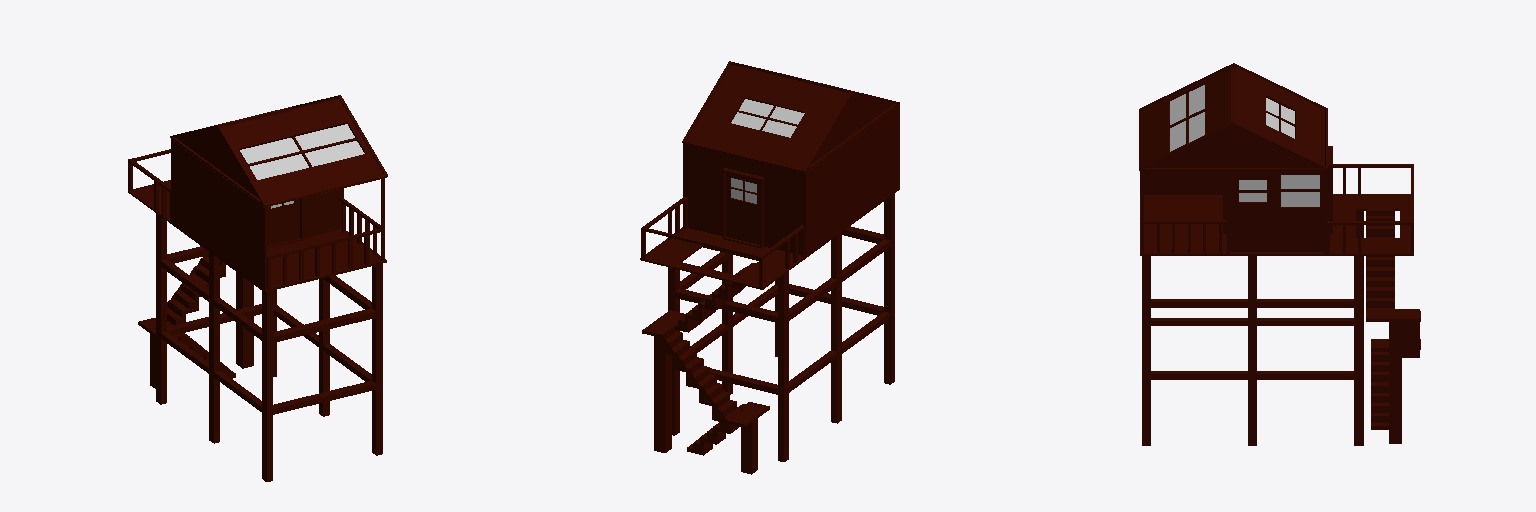
The model's file is Cabane.obj.
The picture shows the model from 3 angles: view 1: azimuth 30°, elevation 25°; view 2: azimuth 150°, elevation 25°; view 3: azimuth 270°, elevation 25°; orthographic projection.
Parts seen in each view (by area): view 1: Cube.005_Cube.016; view 2: Cube.005_Cube.016; view 3: Cube.005_Cube.016.
Part boxes in pixels (x1,y1,x2,y2): Cube.005_Cube.016: (128, 95, 387, 481); Cube.005_Cube.016: (640, 61, 899, 474); Cube.005_Cube.016: (1139, 63, 1420, 445).
Size of the model in its own units: 14.87 by 37.45 by 29.34.